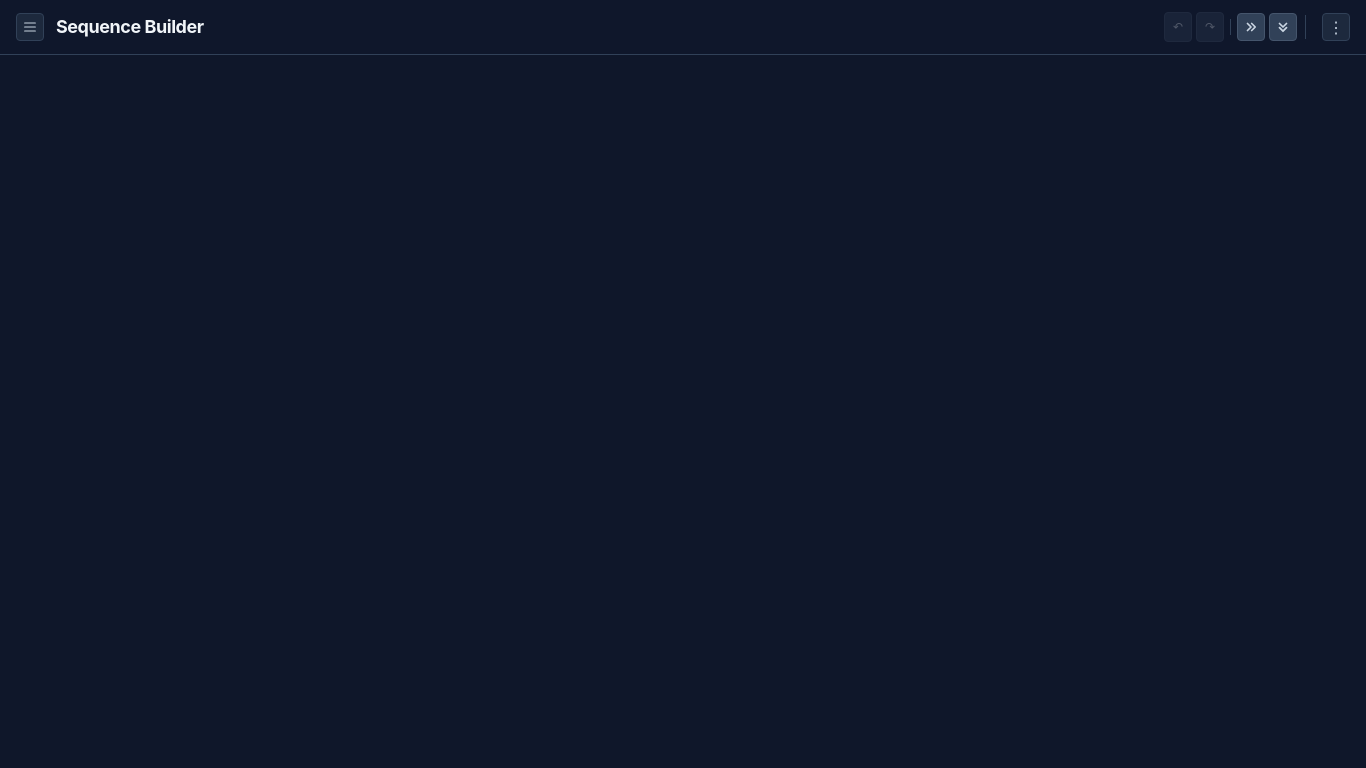
Test case: PageHeader Load button — no-flash invariant › reveals the modal after clipboard.readText() rejects (manual paste fallback)
Click the button named "sequence actions": (1336,27) [1322,13,1350,41]
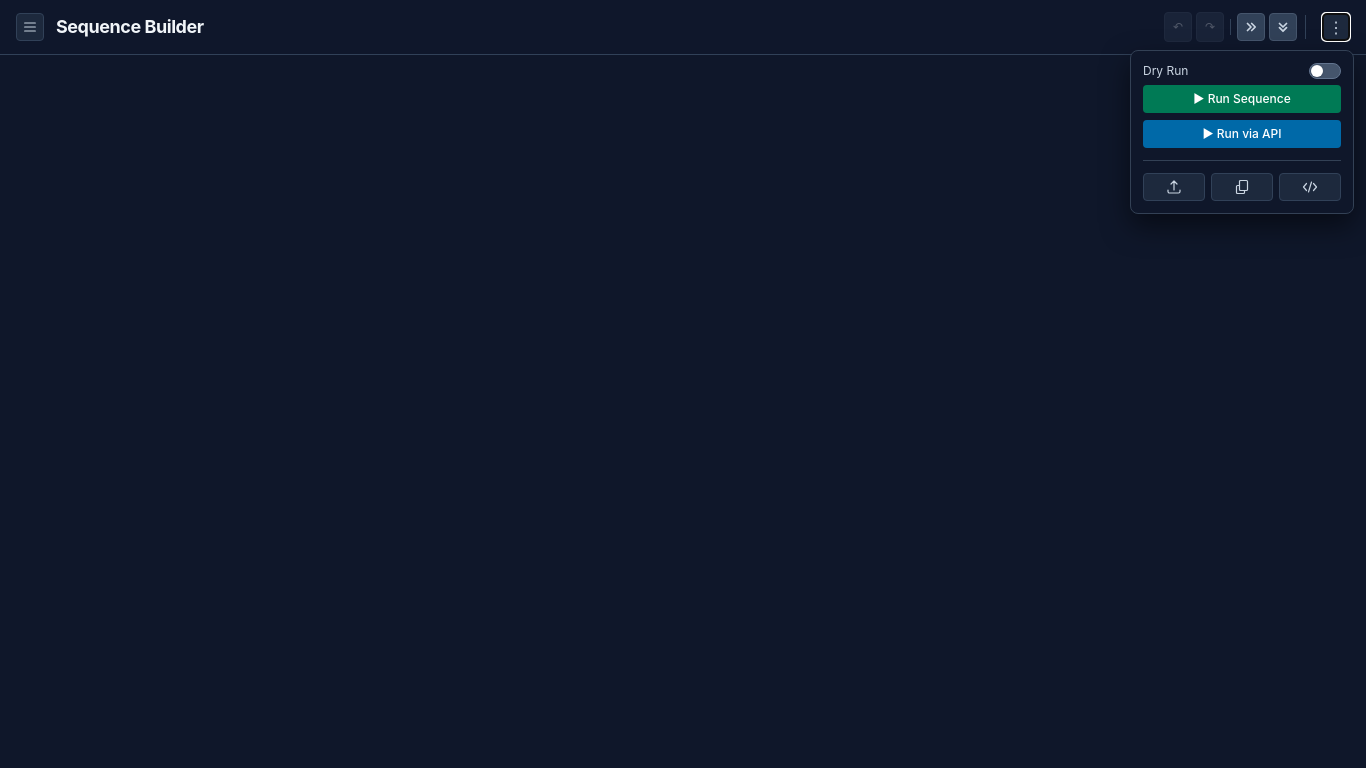
Check: the button with id "load-btn" is shown
Click the button with id "load-btn": (1174,187) [1143,173,1205,201]
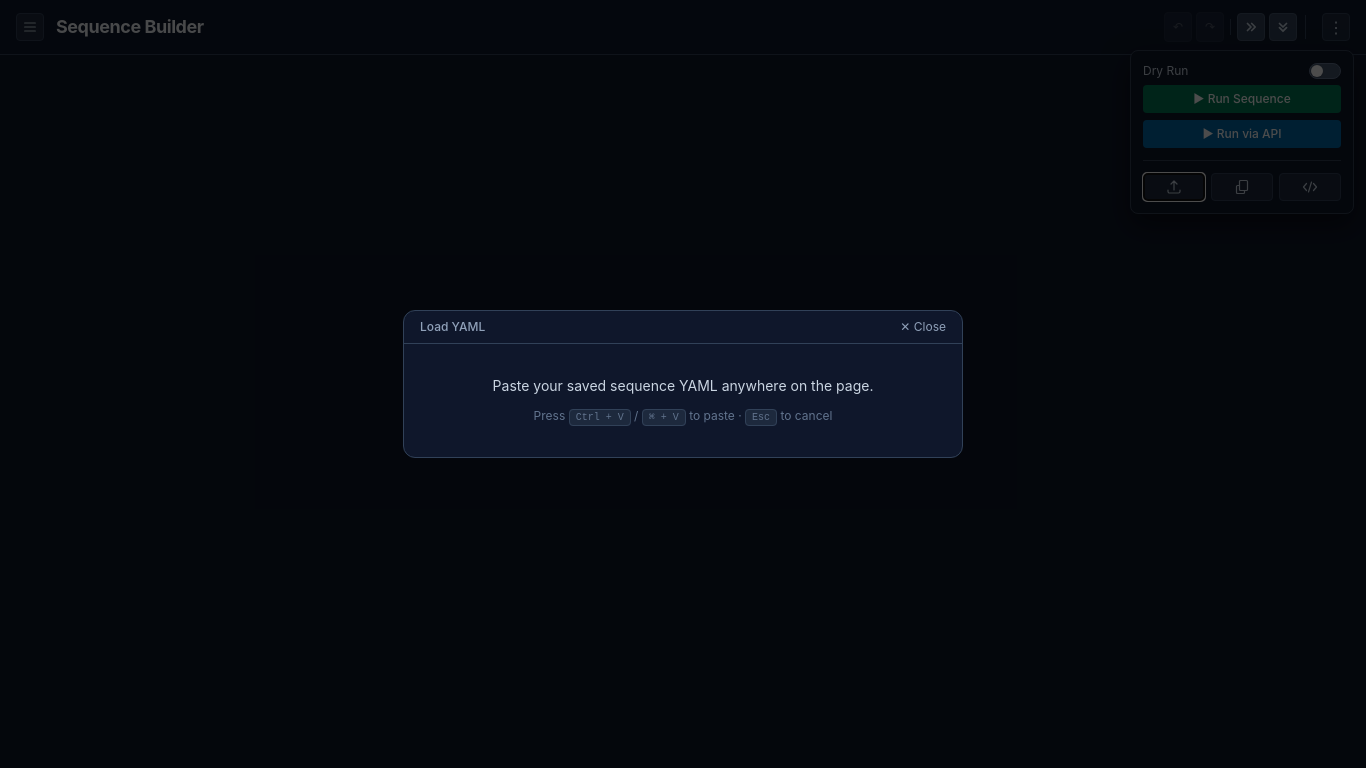
Check: the text "Load YAML" is shown, box [420,319,485,335]
